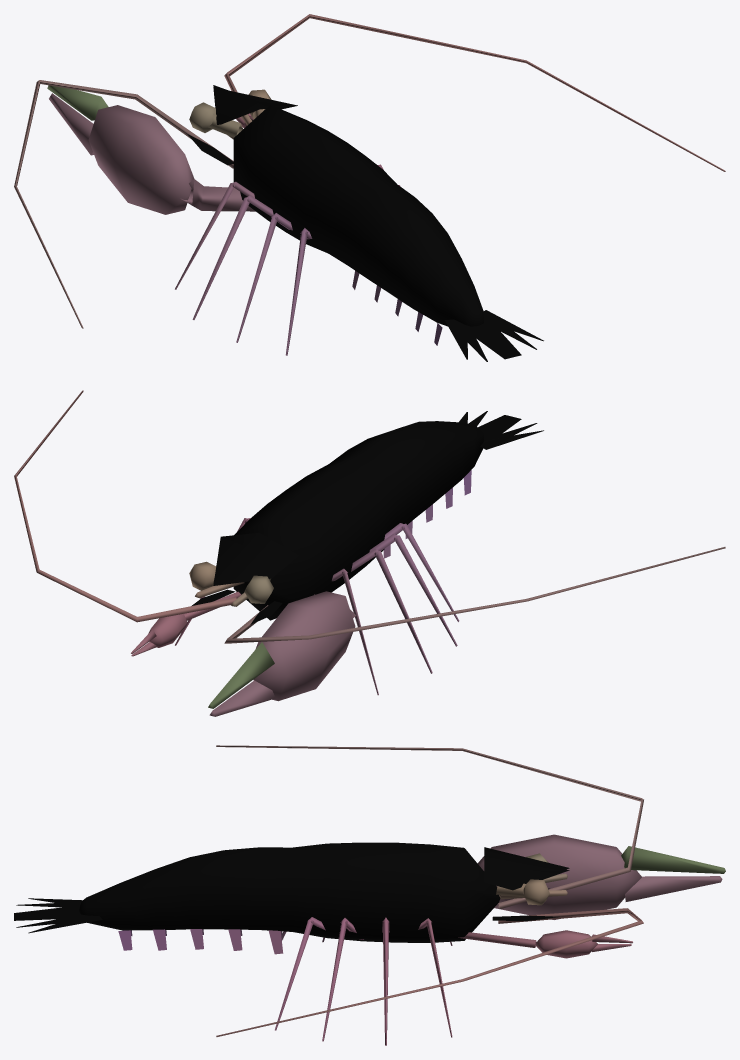
The model's file is shrimp_pistol_lo.glb.
3 renders of one model, top to bottom at view 1: azimuth 30°, elevation 25°; view 2: azimuth 150°, elevation 25°; view 3: azimuth 270°, elevation 25°, orthographic. The views are drawn at different scales.
Parts seen in each view (by area): view 1: shrimp_pistol_lo; view 2: shrimp_pistol_lo; view 3: shrimp_pistol_lo.
Part boxes in pixels (bbox=[...]): shrimp_pistol_lo: bbox=[14, 14, 725, 361]; shrimp_pistol_lo: bbox=[14, 390, 725, 716]; shrimp_pistol_lo: bbox=[14, 745, 725, 1045].
Size of the model in its own units: 0.0561 by 0.0134 by 0.058.
